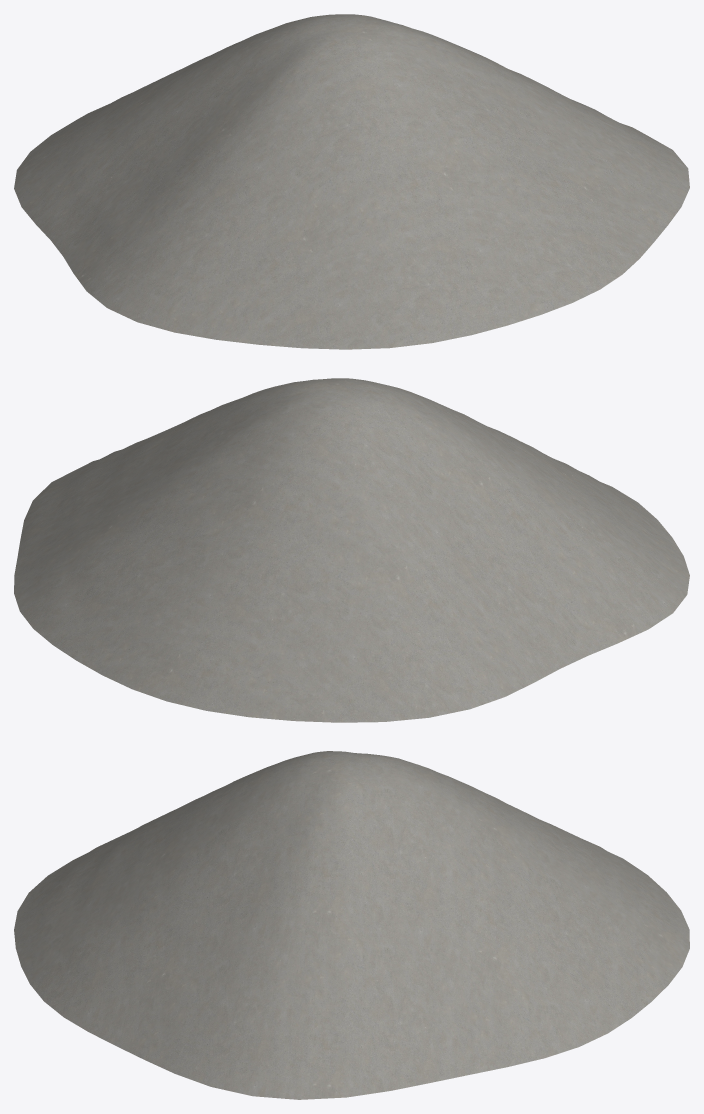
File: ALV-AGR-008.glb
3 renders of one model, top to bottom at view 1: azimuth 30°, elevation 25°; view 2: azimuth 150°, elevation 25°; view 3: azimuth 270°, elevation 25°, orthographic. The views are drawn at different scales.
Visible parts, largest first — view 1: ALV-AGR-008_monte; view 2: ALV-AGR-008_monte; view 3: ALV-AGR-008_monte.
Boxes of the visible parts, x1,y1,x2,y2 form: ALV-AGR-008_monte: (14,14,689,349); ALV-AGR-008_monte: (14,378,689,722); ALV-AGR-008_monte: (14,751,689,1099).
Size of the model in its own units: 1.04 by 0.3061 by 1.02.
Materials: 1 (1 with a texture image).
